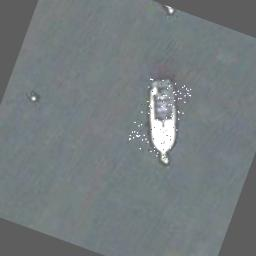boat: (126, 73, 194, 161)
